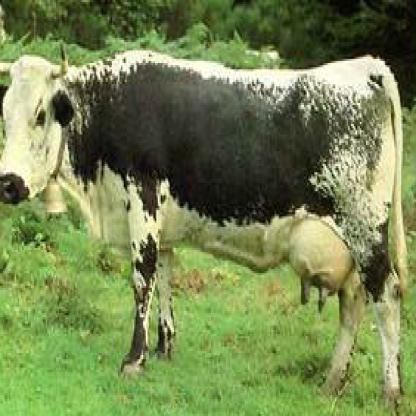cow: (2, 40, 407, 414)
